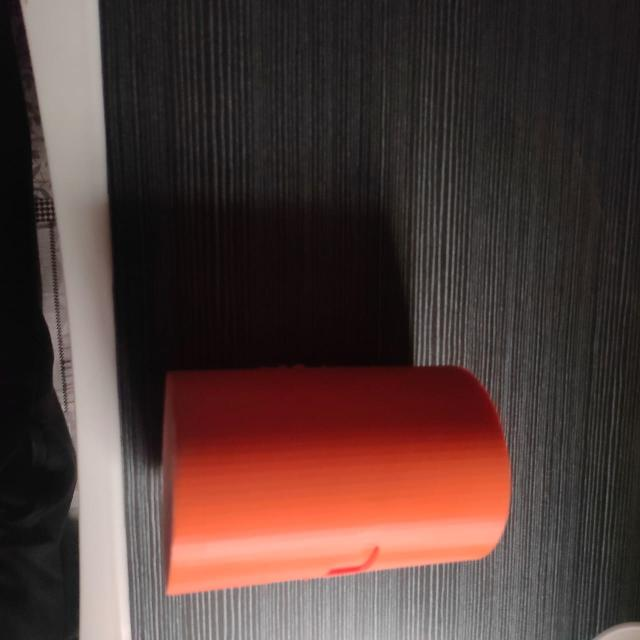Cylinder: (160, 362, 512, 596)
